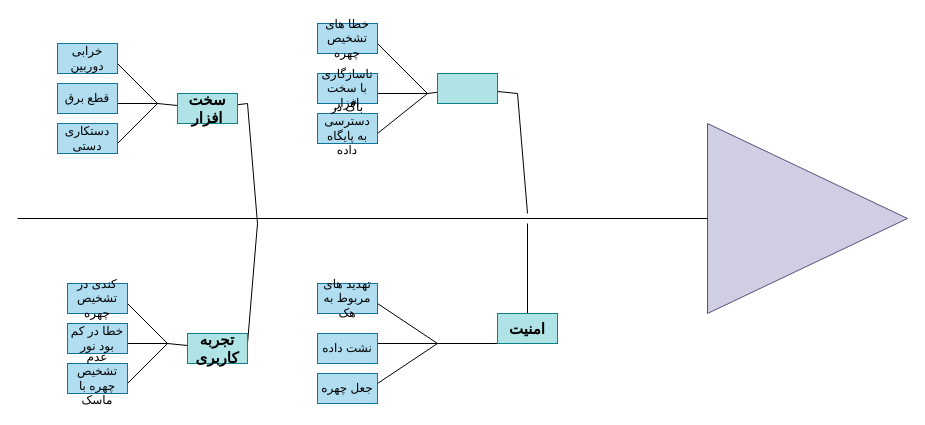
Image size: 925x425. Some labels were removed from this diagram. Each missing label, with the centre of its shape:
"تهدید های پروژه تشخیص چهره برای کنترل آسانسور" belongs at (807,218).
"نرم افزار" belongs at (467,88).
